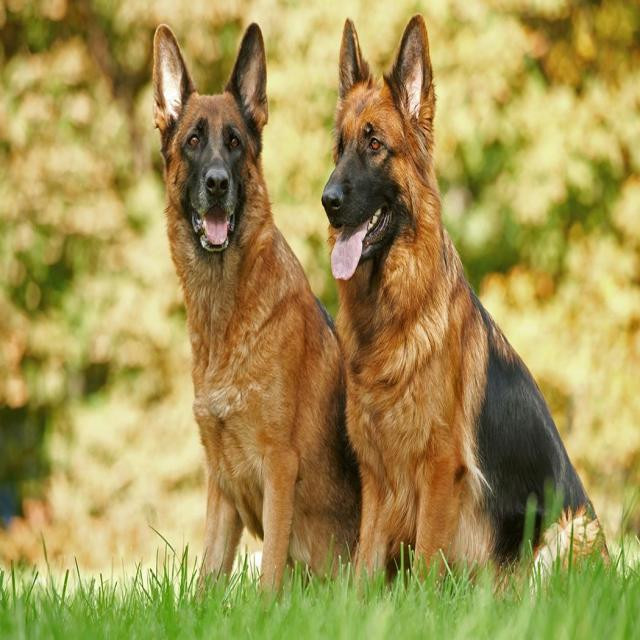GERMAN_SHEPHERD: (306, 7, 618, 594), (136, 22, 371, 609)
